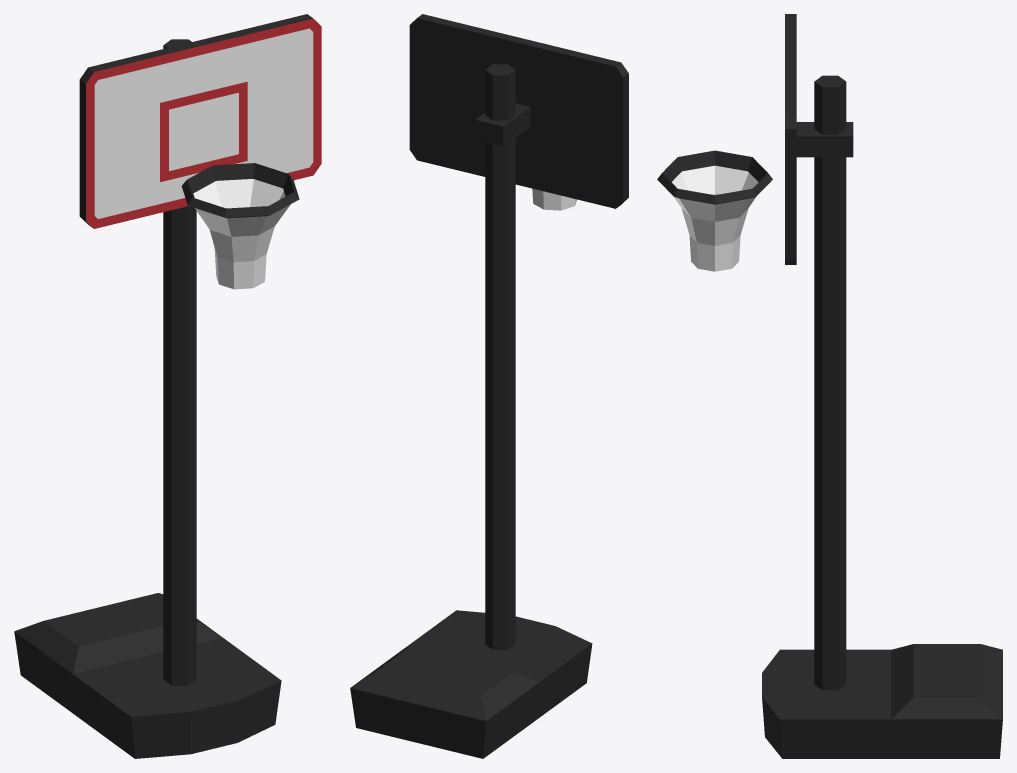
The model's file is sport_basketball-stand.fbx.
3 views of the same model, side by side, from view 1: azimuth 30°, elevation 25°; view 2: azimuth 150°, elevation 25°; view 3: azimuth 270°, elevation 25° (orthographic). The views are drawn at different scales.
Parts seen in each view (by area): view 1: sport_basketball_stand; view 2: sport_basketball_stand; view 3: sport_basketball_stand.
Part boxes in pixels (left/top/right/bottom): sport_basketball_stand: left=14, top=14, right=321, bottom=758; sport_basketball_stand: left=350, top=14, right=628, bottom=758; sport_basketball_stand: left=657, top=14, right=1002, bottom=758.
Bounding box in the file's own units: 70.96 × 200 × 94.8.
